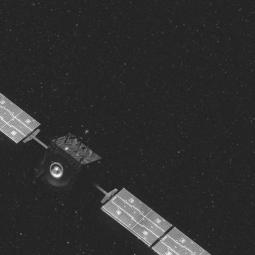smart_1: (26, 86, 142, 241)
